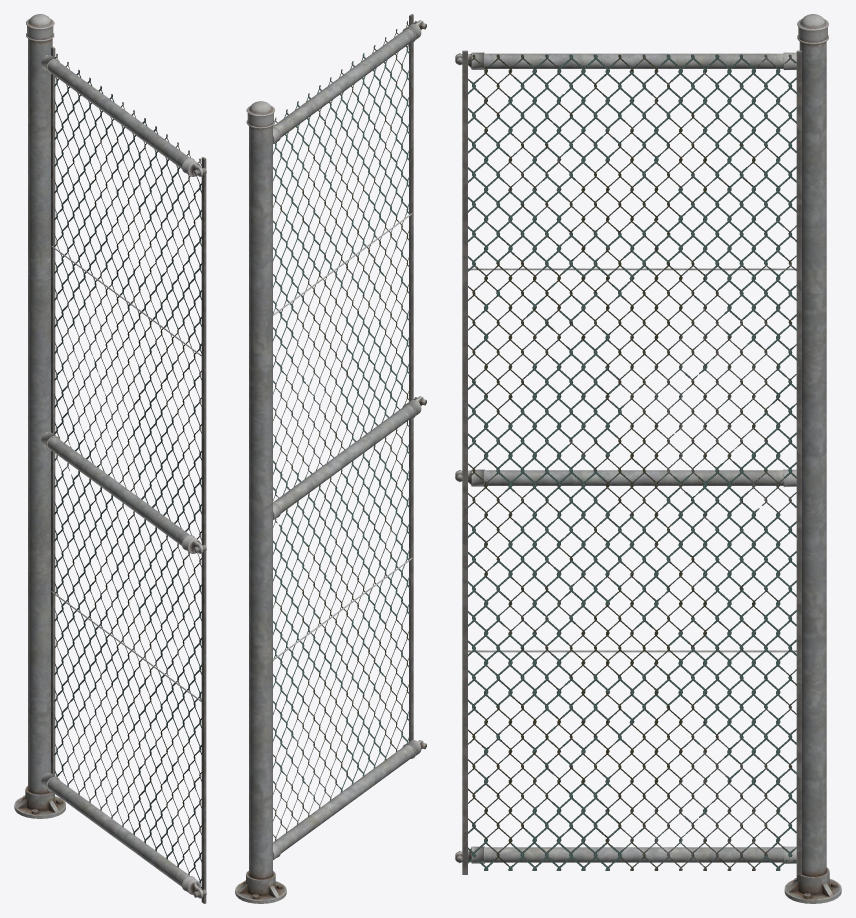
Rendered from modular_chainlink_fence.glb.
3 views of the same model, side by side, from view 1: azimuth 30°, elevation 25°; view 2: azimuth 150°, elevation 25°; view 3: azimuth 270°, elevation 25° (orthographic). The views are drawn at different scales.
Visible parts, largest first — view 1: modular_chainlink_fence; view 2: modular_chainlink_fence; view 3: modular_chainlink_fence.
Part boxes in pixels (left/top/right/bottom): modular_chainlink_fence: left=14, top=14, right=206, bottom=903; modular_chainlink_fence: left=235, top=14, right=426, bottom=903; modular_chainlink_fence: left=455, top=14, right=841, bottom=903.
Bounding box in the file's own units: 0.1494 × 2.52 × 1.01.
Materials: 2 (2 with a texture image).
